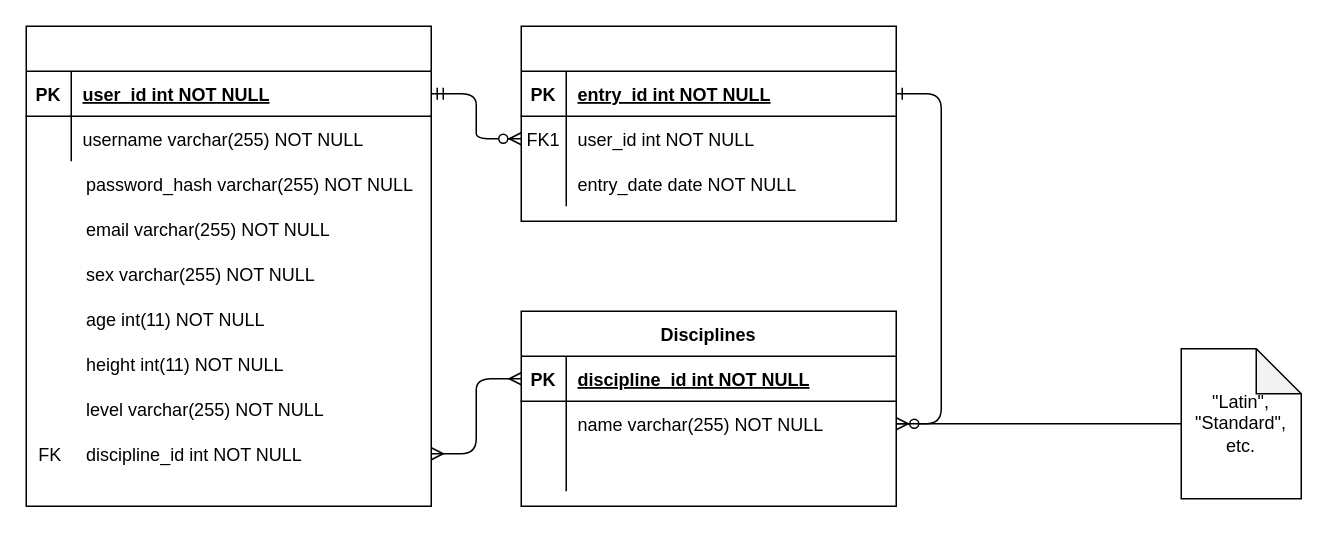
Some shapes in this 1328 by 533 pixel diagram are drawn without their labels. Here are the shapes that lost their labels. From the top down, the box of each, then its label:
(520, 25, 896, 221): Entries
(25, 25, 431, 506): Users
